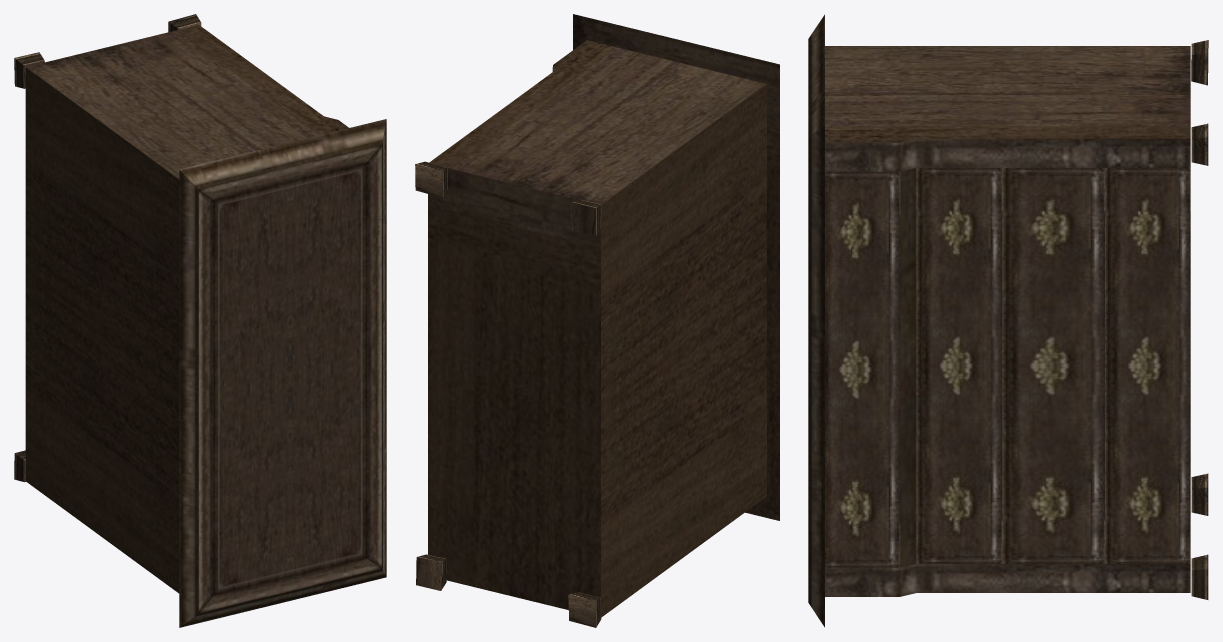
File: furniture_dresser.glb
The picture shows the model from 3 angles, left to right: view 1: azimuth 30°, elevation 25°; view 2: azimuth 150°, elevation 25°; view 3: azimuth 270°, elevation 25°; orthographic projection. The views are drawn at different scales.
Size of the model in its own units: 30.23 by 63.79 by 46.01.
Materials: 1 (1 with a texture image).
